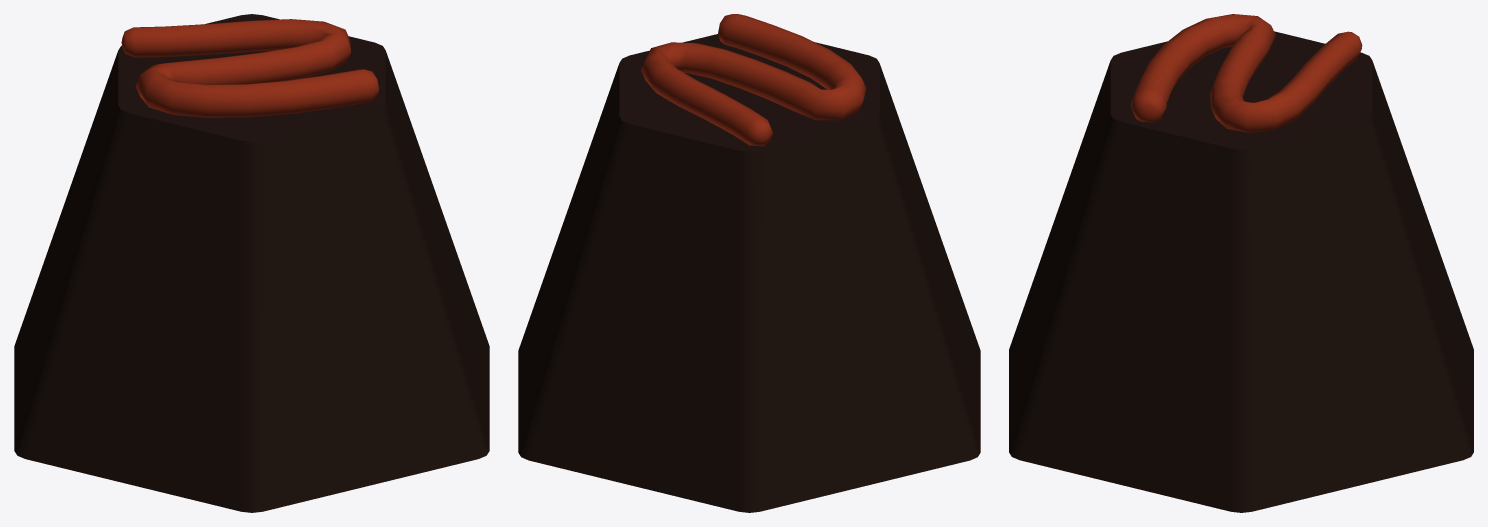
The model's file is SM_Pudding.fbx.
The picture shows the model from 3 angles, left to right: view 1: azimuth 30°, elevation 25°; view 2: azimuth 150°, elevation 25°; view 3: azimuth 270°, elevation 25°; orthographic projection. The views are drawn at different scales.
Parts seen in each view (by area): view 1: SM_Pudding; view 2: SM_Pudding; view 3: SM_Pudding.
Part boxes in pixels (box(x1,y1,x2,y2)): SM_Pudding: box(14, 14, 489, 512); SM_Pudding: box(518, 14, 980, 512); SM_Pudding: box(1009, 14, 1473, 512).
Bounding box in the file's own units: 5.22 × 3.7 × 4.57.
